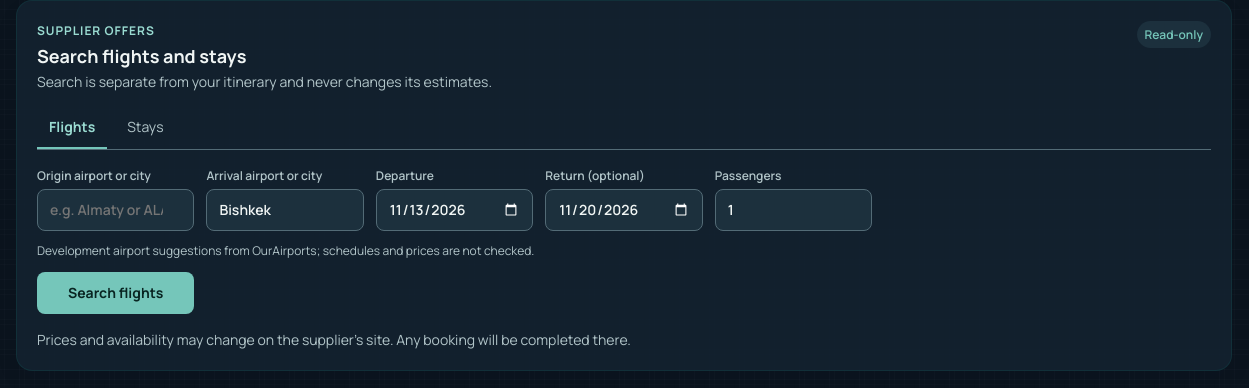
Test: switches to stay search and reports the provider-unconfigured state
Click the tab "Stays".
click(145, 128)  # box [115, 108, 176, 149]
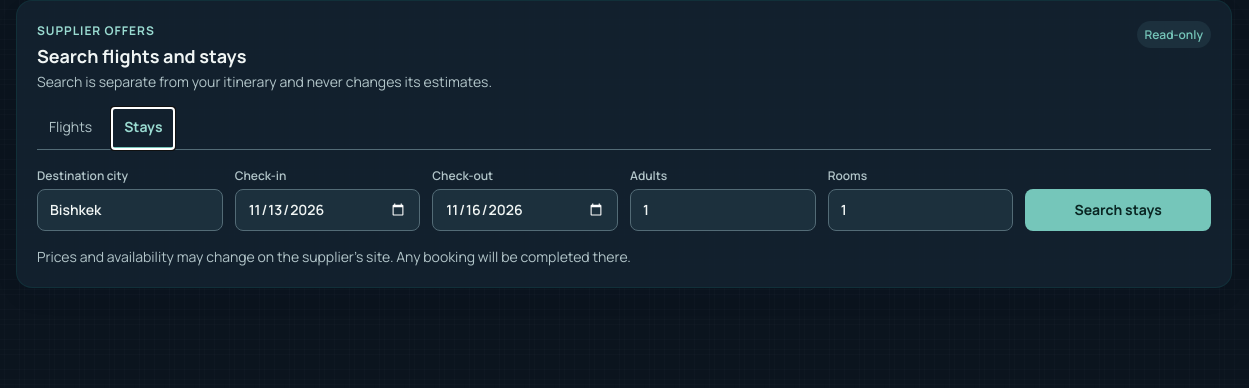
Click the button "Search stays".
click(1118, 210)  # box [1025, 189, 1211, 231]
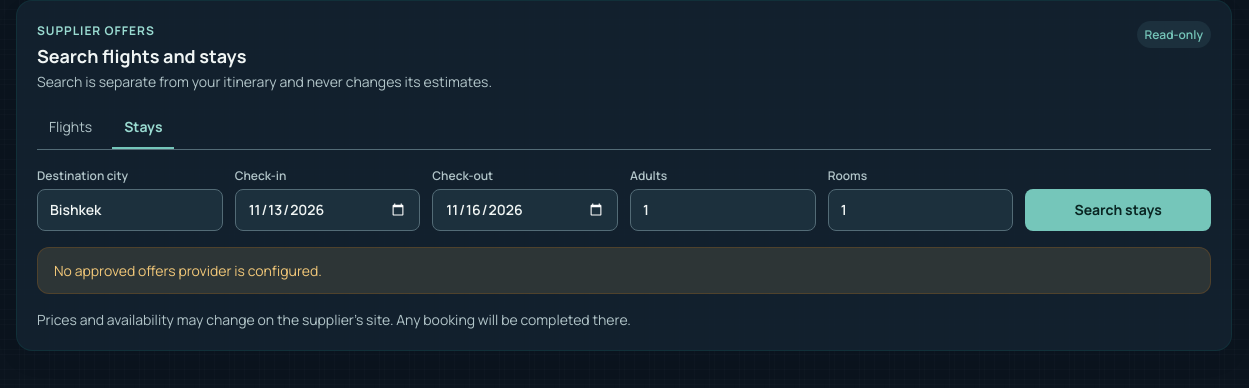
Now the message reads "No approved offers provider is configured.", box [54, 261, 322, 280]
